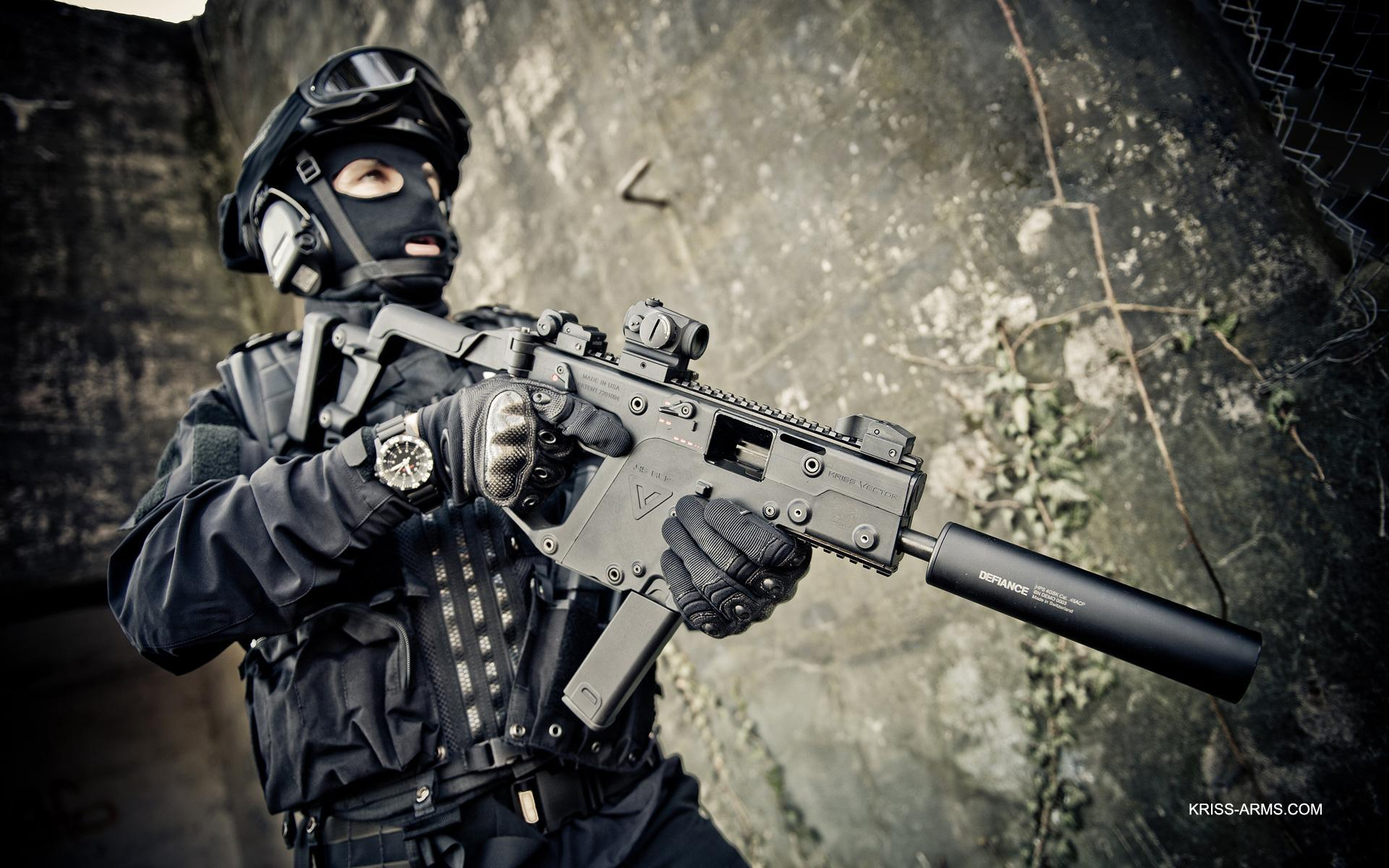larga: (283, 293, 1268, 736)
